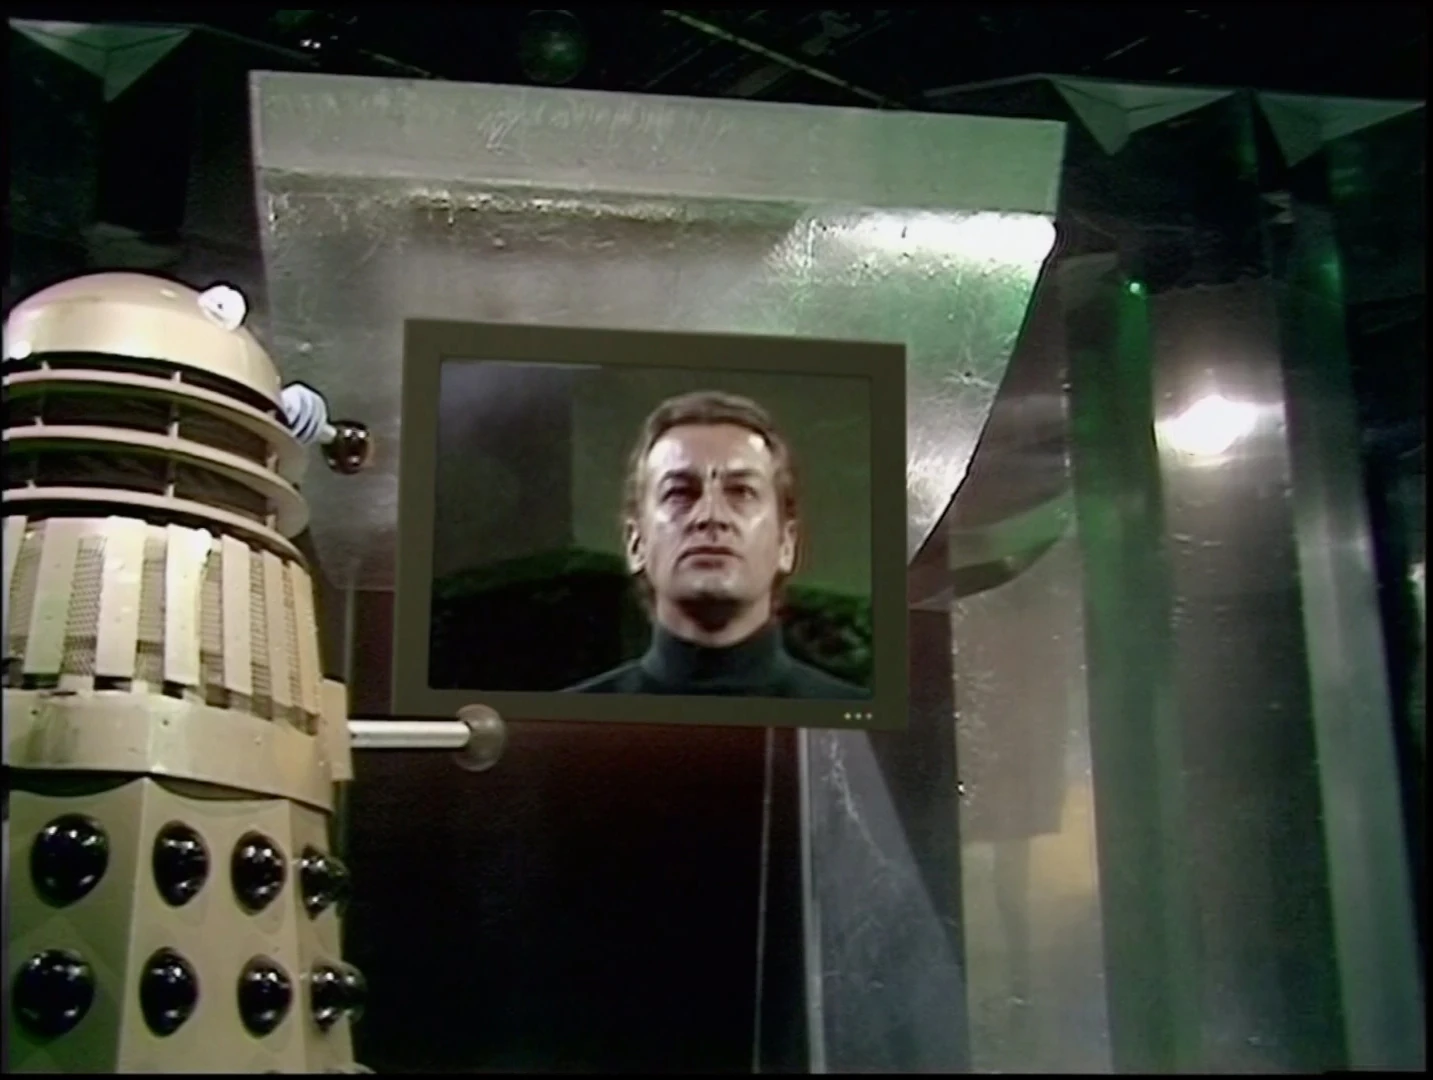Dalek: (0, 259, 381, 1074)
